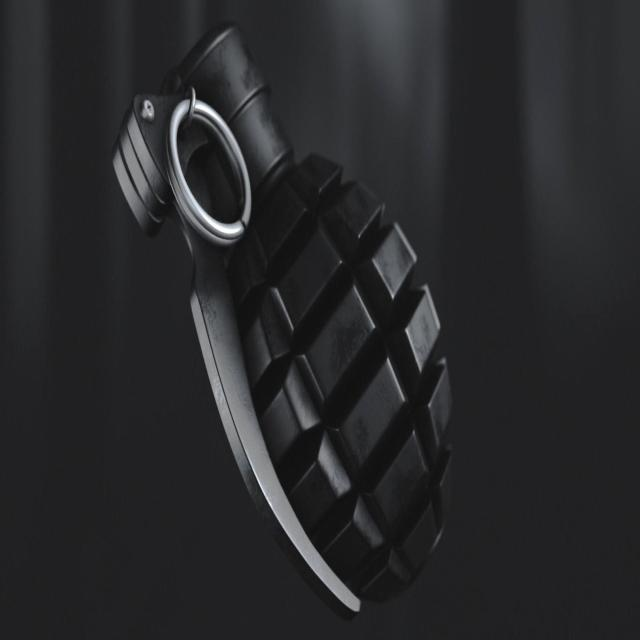grenade: (113, 23, 456, 615)
